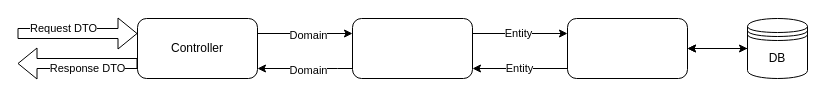
Some shapes in this 825 by 96 pixel diagram are drawn without their labels. Here are the shapes that lost their labels. From the top down, the box of each, then its label:
(352, 18, 472, 78): Service
(566, 18, 688, 78): DAO
